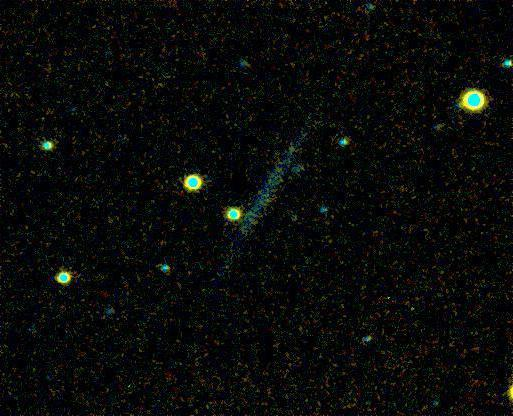star: (279, 136, 309, 166)
